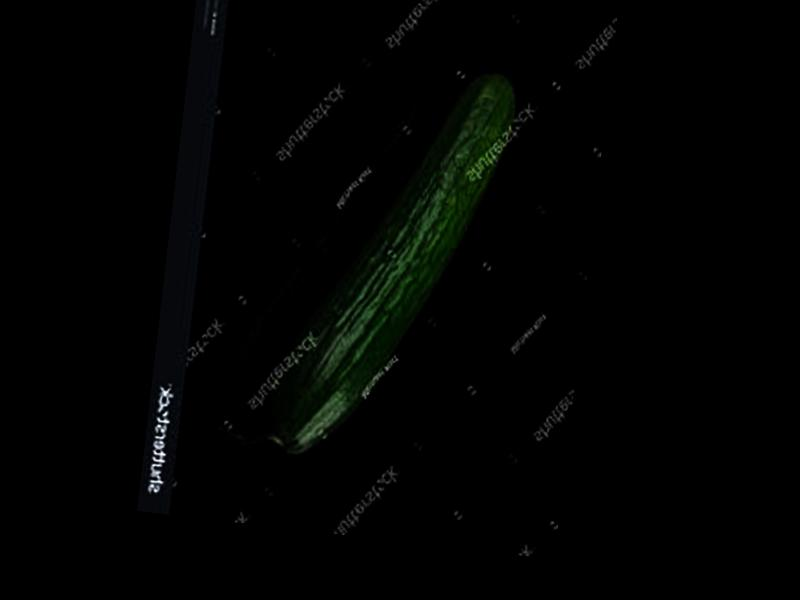Cucumber: (257, 48, 521, 474)
